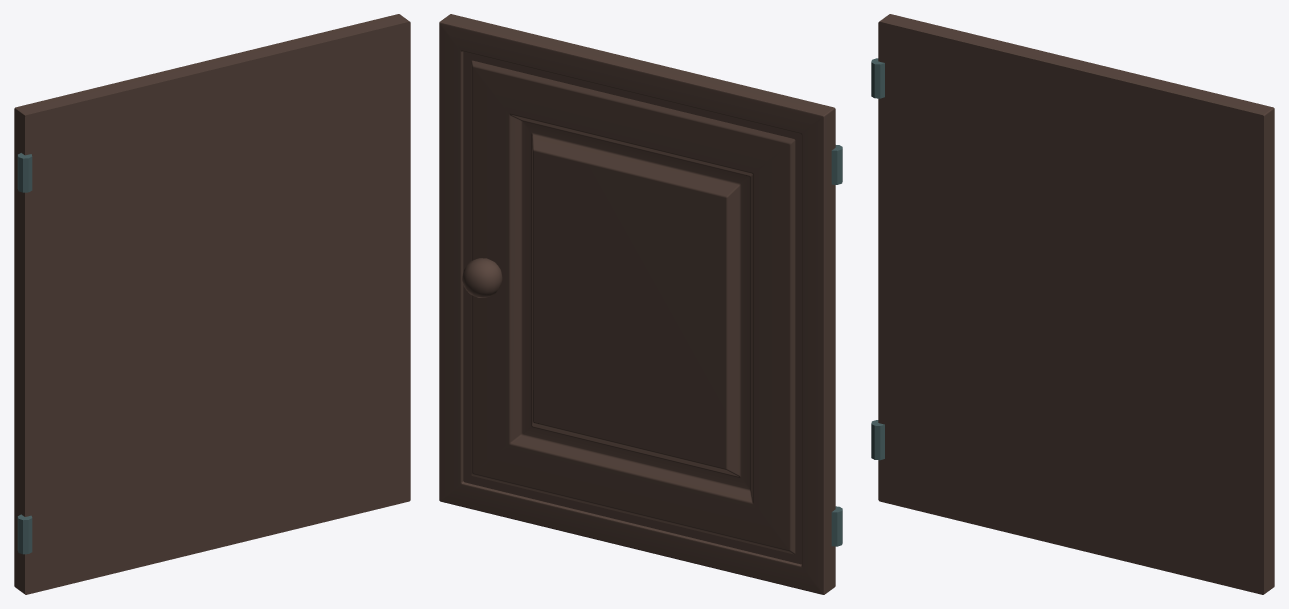
File: Sportello_Bancone.fbx
3 views of the same model, side by side, from view 1: azimuth 30°, elevation 25°; view 2: azimuth 150°, elevation 25°; view 3: azimuth 330°, elevation 25° (orthographic).
Visible parts, largest first — view 1: Sportello_Bancone; view 2: Sportello_Bancone, Pomello; view 3: Sportello_Bancone.
Boxes of the visible parts, x1,y1,x2,y2 form: Sportello_Bancone: (14, 14, 410, 594); Sportello_Bancone: (439, 14, 842, 594); Pomello: (462, 258, 502, 297); Sportello_Bancone: (871, 14, 1274, 594).
Size of the model in its own units: 0.6004 by 0.7019 by 0.0891.
